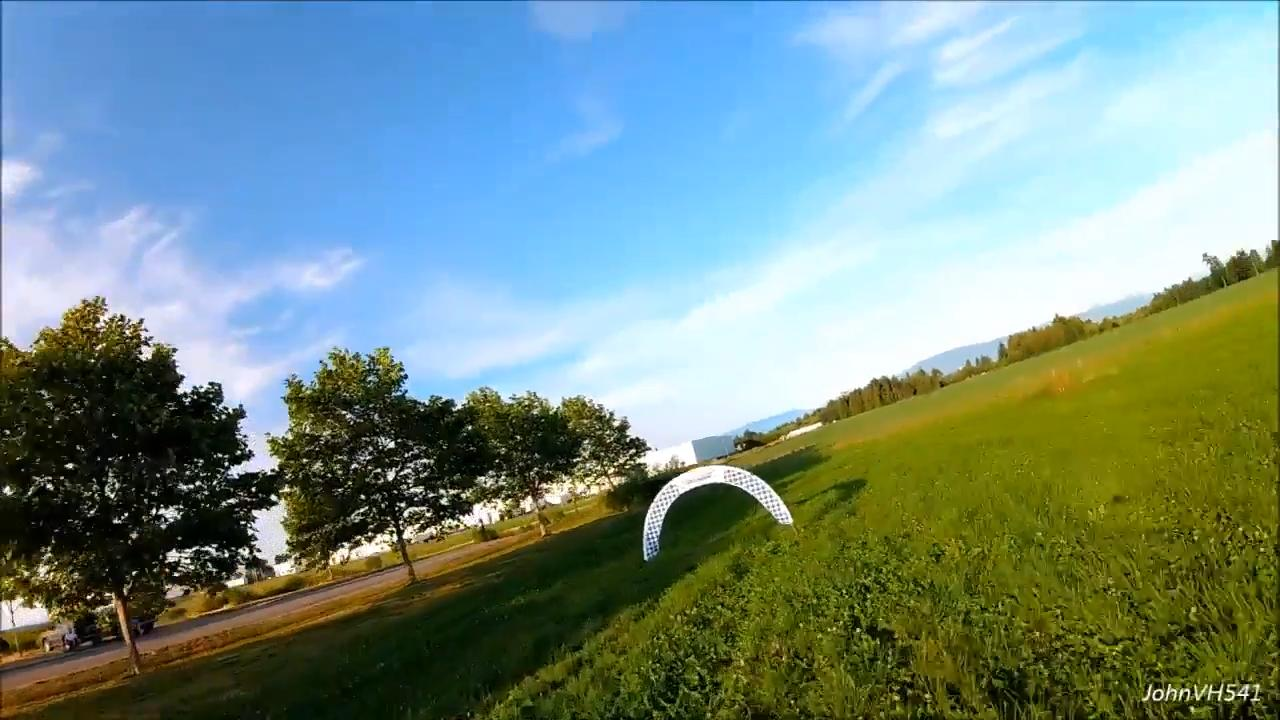gate: (642, 462, 795, 562)
